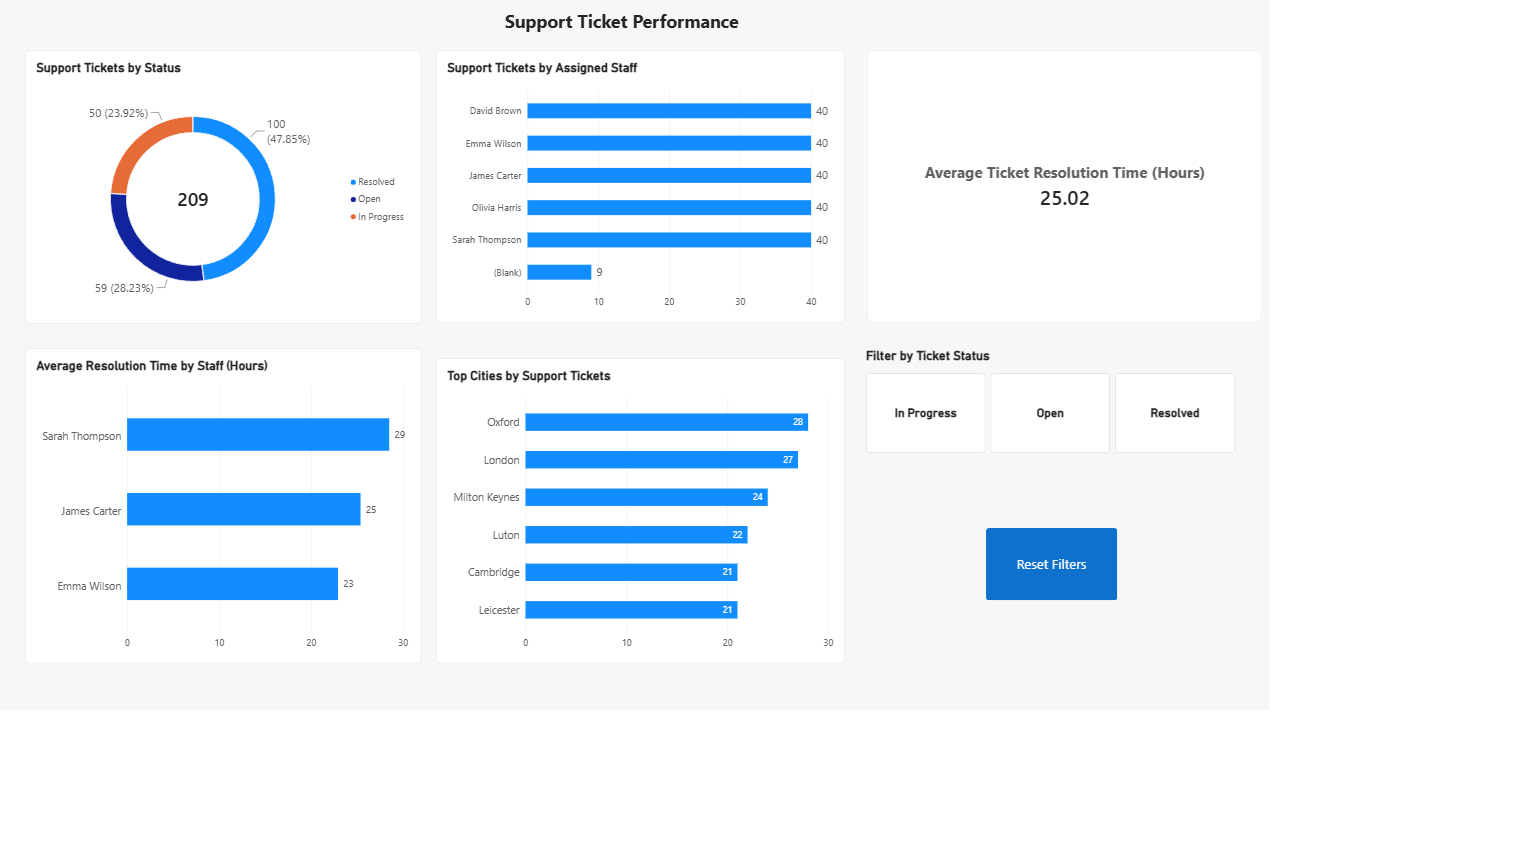

Layout of this report page (visuals, bound fields, positions):
{"tool":"powerbi","page":{"name":"Support Ticket Analysis","canvas":[1920,1080],"ordinal":2},"visuals":[{"type":"donutChart","title":"Support Tickets by Status","fields":{"Category":["nhs_digital_exclusion_analytics assisted_booking_tickets.support_status"],"Y":["CountNonNull(nhs_digital_exclusion_analytics assisted_booking_tickets.ticket_id)"]},"box":[40,75,598.3,413.3],"z":0},{"type":"clusteredBarChart","title":"Support Tickets by Assigned Staff","fields":{"Category":["nhs_digital_exclusion_analytics assisted_booking_tickets.assigned_staff"],"Y":["Count(nhs_digital_exclusion_analytics assisted_booking_tickets.ticket_id)"]},"box":[660,75,616.7,411.7],"z":1},{"type":"cardVisual","fields":{"Data":["nhs_digital_exclusion_analytics assisted_booking_tickets.Average Resolution Hours"]},"box":[1310,75,595,411.7],"z":2},{"type":"clusteredBarChart","title":"Average Resolution Time by Staff (Hours)","fields":{"Category":["nhs_digital_exclusion_analytics assisted_booking_tickets.assigned_staff"],"Y":["nhs_digital_exclusion_analytics assisted_booking_tickets.Average Resolution Hours"]},"box":[40,525,598.3,476.7],"z":3},{"type":"clusteredBarChart","title":"Top Cities by Support Tickets","fields":{"Category":["nhs_digital_exclusion_analytics patients.city"],"Y":["CountNonNull(nhs_digital_exclusion_analytics assisted_booking_tickets.ticket_id)"]},"box":[660,540,616.7,461.7],"z":4},{"type":"advancedSlicerVisual","title":"Filter by Ticket Status","fields":{"Values":["nhs_digital_exclusion_analytics assisted_booking_tickets.support_status"]},"box":[1309.4,524.2,565,165],"z":5},{"type":"textbox","box":[461.7,13.3,958.3,61.7],"z":6},{"type":"actionButton","title":"Reset Filters","box":[1489.9,796.8,197.8,109.4],"z":7}]}

Visuals, with their boxes in screenshot pixels (x1, y1, x2, y2), scaled from the page's 1920x1080 canvas onto the 1536x864 screenshot:
"Support Tickets by Status" donutChart: detection(32, 60, 511, 391)
"Support Tickets by Assigned Staff" clusteredBarChart: detection(528, 60, 1021, 389)
cardVisual - nhs_digital_exclusion_analytics assisted_booking_tickets.Average Resolution Hours: detection(1048, 60, 1524, 389)
"Average Resolution Time by Staff (Hours)" clusteredBarChart: detection(32, 420, 511, 801)
"Top Cities by Support Tickets" clusteredBarChart: detection(528, 432, 1021, 801)
"Filter by Ticket Status" advancedSlicerVisual: detection(1048, 419, 1500, 551)
textbox: detection(369, 11, 1136, 60)
"Reset Filters" actionButton: detection(1192, 637, 1350, 725)
